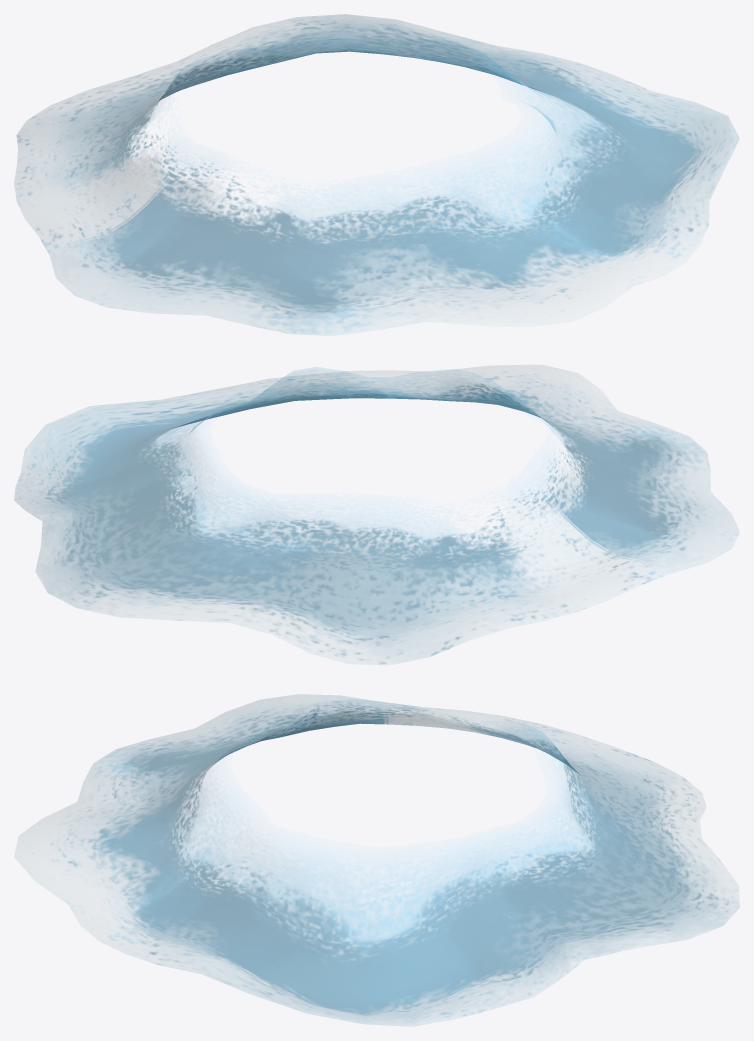
File: hugeSplash.fbx
3 views of the same model, one above another, from view 1: azimuth 30°, elevation 25°; view 2: azimuth 150°, elevation 25°; view 3: azimuth 270°, elevation 25° (orthographic). The views are drawn at different scales.
Parts seen in each view (by area): view 1: HugeSplash.001; view 2: HugeSplash.001; view 3: HugeSplash.001.
Part boxes in pixels (box(x1,y1,x2,y2)): HugeSplash.001: box(14, 14, 739, 335); HugeSplash.001: box(14, 364, 739, 665); HugeSplash.001: box(14, 694, 739, 1026).
Size of the model in its own units: 4826 by 717 by 4655.
